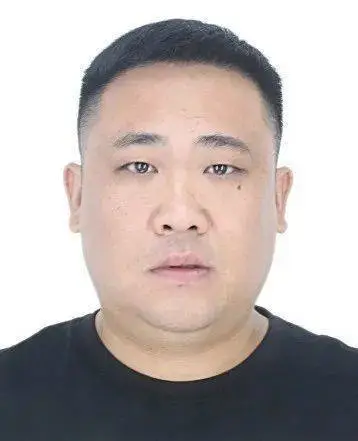normal: (66, 19, 292, 333)
